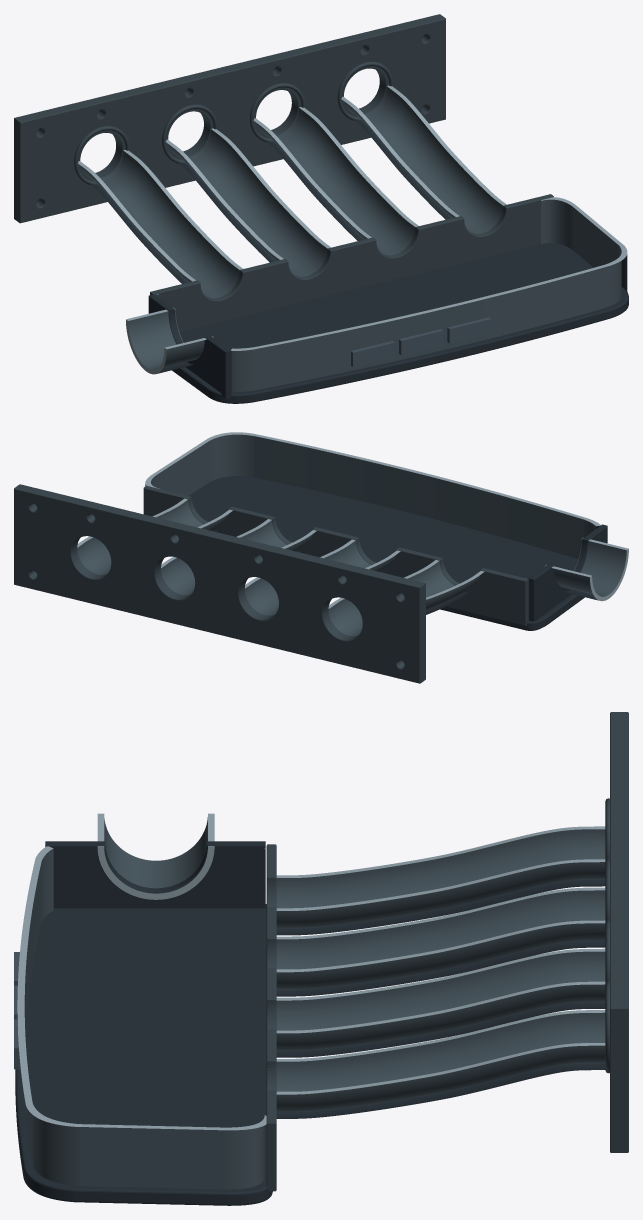
The model's file is coletor-k24-corte.glb.
3 renders of one model, top to bottom at view 1: azimuth 30°, elevation 25°; view 2: azimuth 150°, elevation 25°; view 3: azimuth 270°, elevation 25°, orthographic. The views are drawn at different scales.
Parts seen in each view (by area): view 1: Flange_de_fixacao_com_furos, Plenum_fundo, Plenum_parede_interna_inferior, Parede_traseira_em_corte, Duto_2_inferior_interior, Duto_1_inferior_interior, Duto_3_inferior_interior, Duto_4_inferior_interior, Entrada_lateral_inferior_interior, Entrada_parede_em_corte, Plenum_borda_inferior, Duto_2_inferior_espessura (+15 smaller); view 2: Flange_de_fixacao_com_furos, Plenum_parede_interna_inferior, Plenum_fundo, Parede_traseira_em_corte, Entrada_lateral_inferior_interior, Duto_1_inferior_interior, Entrada_parede_em_corte, Duto_4_inferior_interior, Duto_3_inferior_interior, Duto_2_inferior_interior, Plenum_borda_inferior, Entrada_lateral_inferior_espessura (+1 smaller); view 3: Plenum_fundo, Duto_3_inferior_interior, Duto_4_inferior_interior, Duto_2_inferior_interior, Duto_1_inferior_interior, Plenum_parede_interna_inferior, Entrada_parede_em_corte, Flange_de_fixacao_com_furos, Parede_traseira_em_corte, Plenum_borda_inferior, Entrada_lateral_inferior_interior, Duto_1_inferior_exterior (+8 smaller).
Part boxes in pixels (<box>): Flange_de_fixacao_com_furos: <box>14,14,445,223</box>; Plenum_fundo: <box>172,243,628,403</box>; Plenum_parede_interna_inferior: <box>158,199,621,391</box>; Parede_traseira_em_corte: <box>150,194,553,331</box>; Duto_2_inferior_interior: <box>168,129,327,276</box>; Duto_1_inferior_interior: <box>80,150,239,298</box>; Duto_3_inferior_interior: <box>256,108,415,255</box>; Duto_4_inferior_interior: <box>344,86,502,233</box>; Entrada_lateral_inferior_interior: <box>128,309,204,369</box>; Entrada_parede_em_corte: <box>148,294,231,399</box>; Plenum_borda_inferior: <box>156,197,627,350</box>; Duto_2_inferior_espessura: <box>165,128,330,259</box>; Flange_de_fixacao_com_furos: <box>14,484,425,683</box>; Plenum_parede_interna_inferior: <box>151,434,595,558</box>; Plenum_fundo: <box>189,476,584,630</box>; Parede_traseira_em_corte: <box>143,485,528,625</box>; Entrada_lateral_inferior_interior: <box>553,539,626,596</box>; Duto_1_inferior_interior: <box>328,561,480,636</box>; Entrada_parede_em_corte: <box>528,524,607,621</box>; Duto_4_inferior_interior: <box>77,500,228,574</box>; Duto_3_inferior_interior: <box>161,520,312,595</box>; Duto_2_inferior_interior: <box>245,540,396,615</box>; Plenum_borda_inferior: <box>145,432,600,526</box>; Entrada_lateral_inferior_espessura: <box>545,537,628,601</box>; Plenum_fundo: <box>15,904,272,1205</box>; Duto_3_inferior_interior: <box>276,951,605,1050</box>; Duto_4_inferior_interior: <box>276,1012,605,1112</box>; Duto_2_inferior_interior: <box>276,890,605,989</box>; Duto_1_inferior_interior: <box>276,829,605,928</box>; Plenum_parede_interna_inferior: <box>24,848,264,1189</box>; Entrada_parede_em_corte: <box>45,841,265,908</box>; Flange_de_fixacao_com_furos: <box>610,712,628,1152</box>; Parede_traseira_em_corte: <box>266,844,276,1191</box>; Plenum_borda_inferior: <box>17,846,266,1130</box>; Entrada_lateral_inferior_interior: <box>104,817,207,893</box>; Duto_1_inferior_exterior: <box>276,880,605,935</box>.
Bounding box in the file's own units: 6.27 × 1.83 × 5.1.
